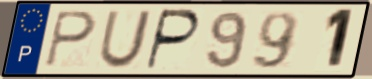1: (321, 7, 355, 73)
9: (249, 10, 304, 70), (202, 9, 249, 70)
P: (143, 8, 202, 72), (43, 9, 98, 70)
U: (96, 9, 155, 70)
